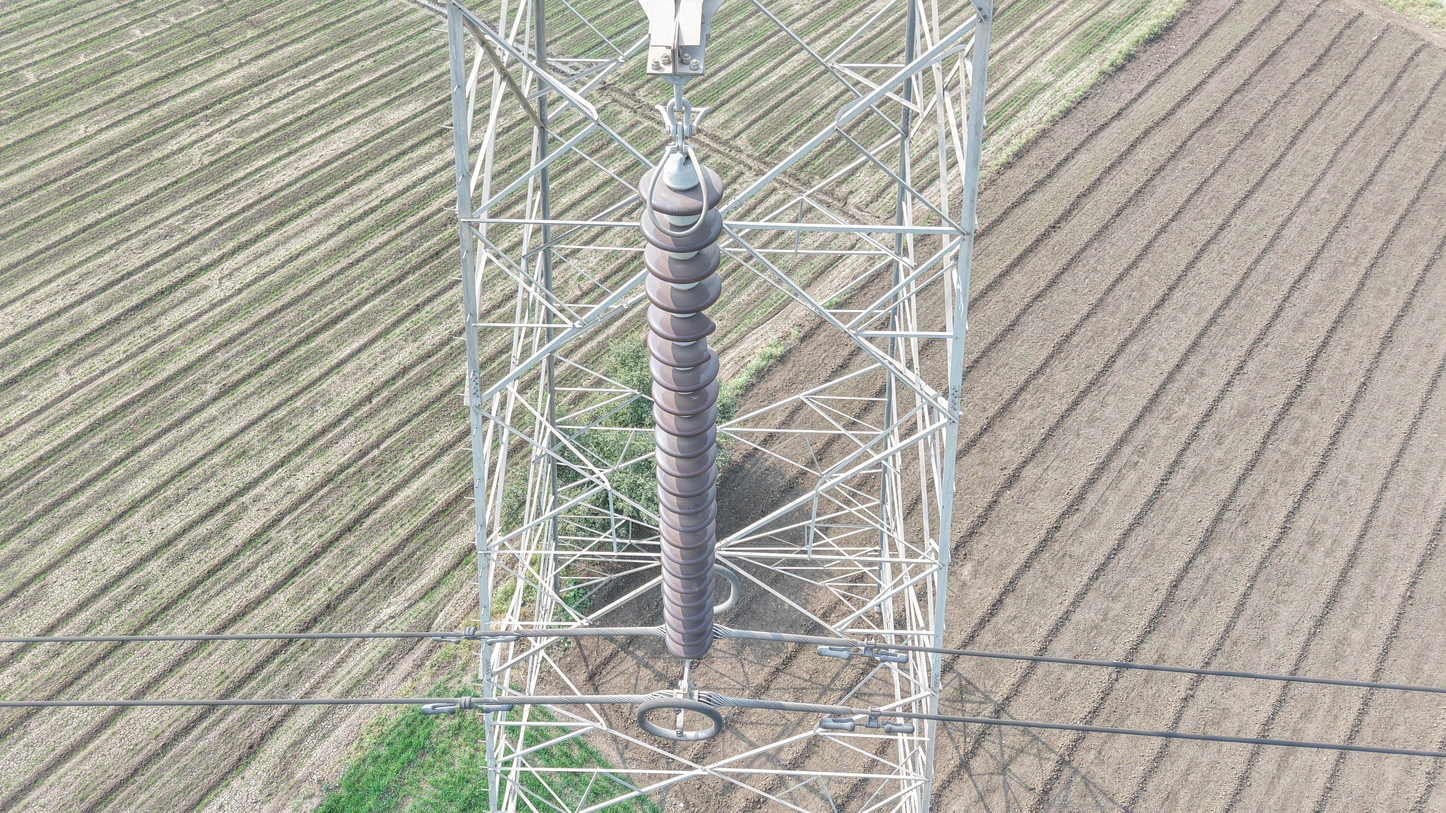broken_insulator: (629, 308, 727, 342), (635, 344, 723, 369)
